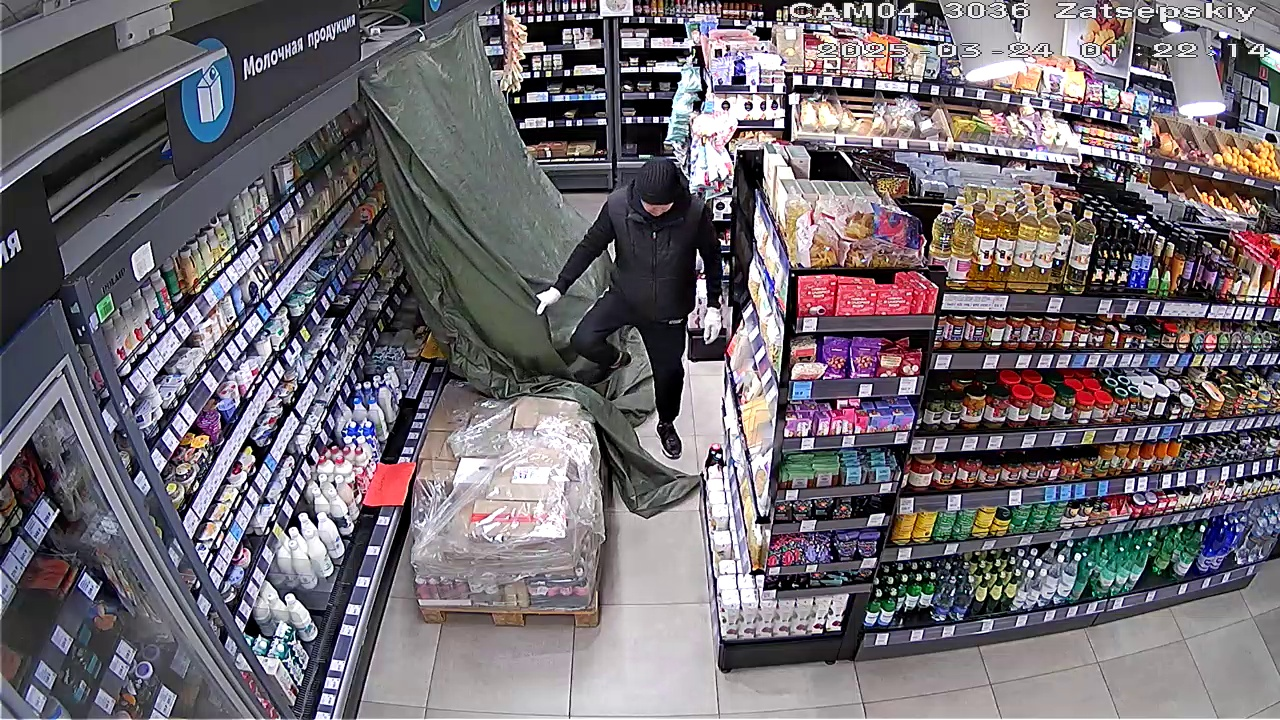Human: (513, 152, 699, 459)
dome: (343, 21, 702, 497)
pallet: (415, 372, 601, 623)
